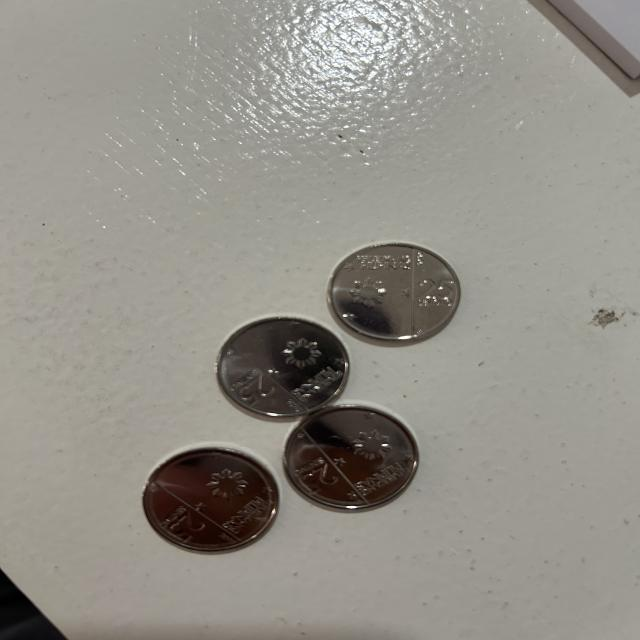25Cent_New_Front: (151, 509, 217, 549), (288, 454, 346, 497), (212, 370, 278, 406), (410, 278, 460, 311)
